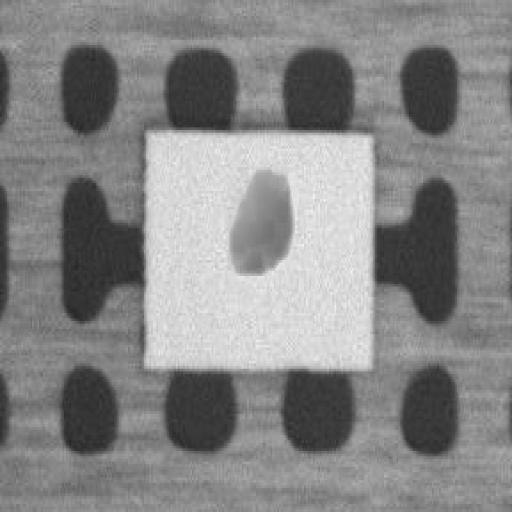DIE_INK: (228, 164, 295, 270)
